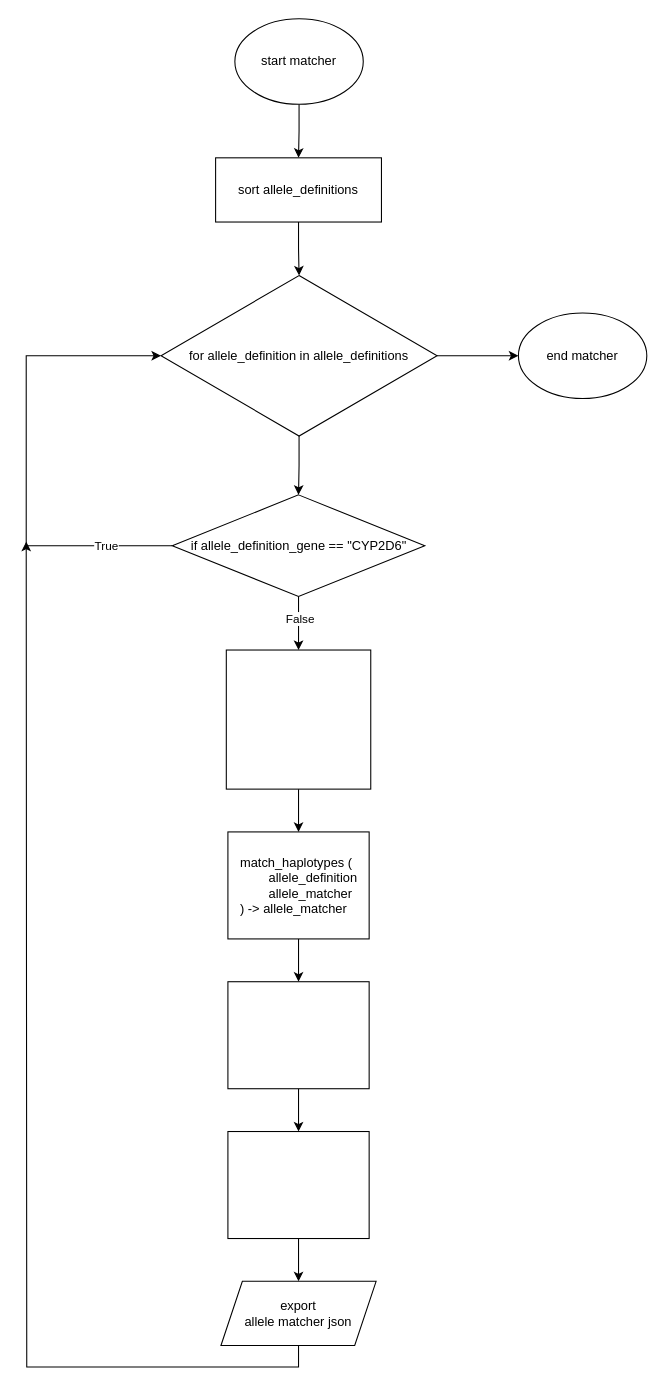
Image size: 666x1394. Some labels were removed from this diagram. The shapes that lost their labels are listed below. From the top down, each one's centre as x and y in pixels, then its label:
At (298,719): "query_vcf ( allele_definition ana_user_id ana_id vcf_gz_file ) -> allele_matcher".
At (298,1035): "find_best_candidate ( allele_definition allele_matcher ) -> allele_matcher".
At (298,1184): "exception ( allele_definition allele_matcher ) -> allele_matcher".
